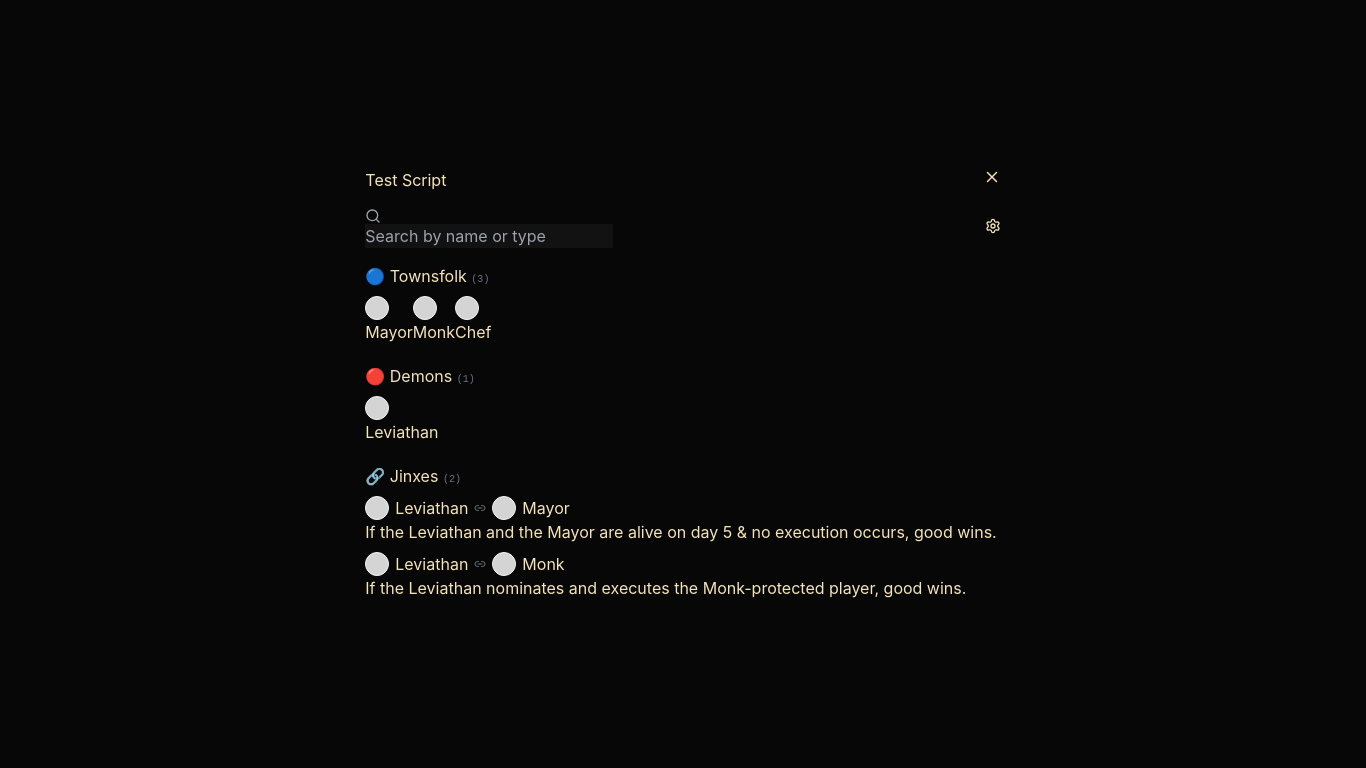
Test: ScriptCharactersModal jinxes › narrows jinxes to those naming a searched character
Type "monk" into the field with placeholder "Search by name or type" at coordinates (489, 236), box left=365, top=224, right=613, bottom=248
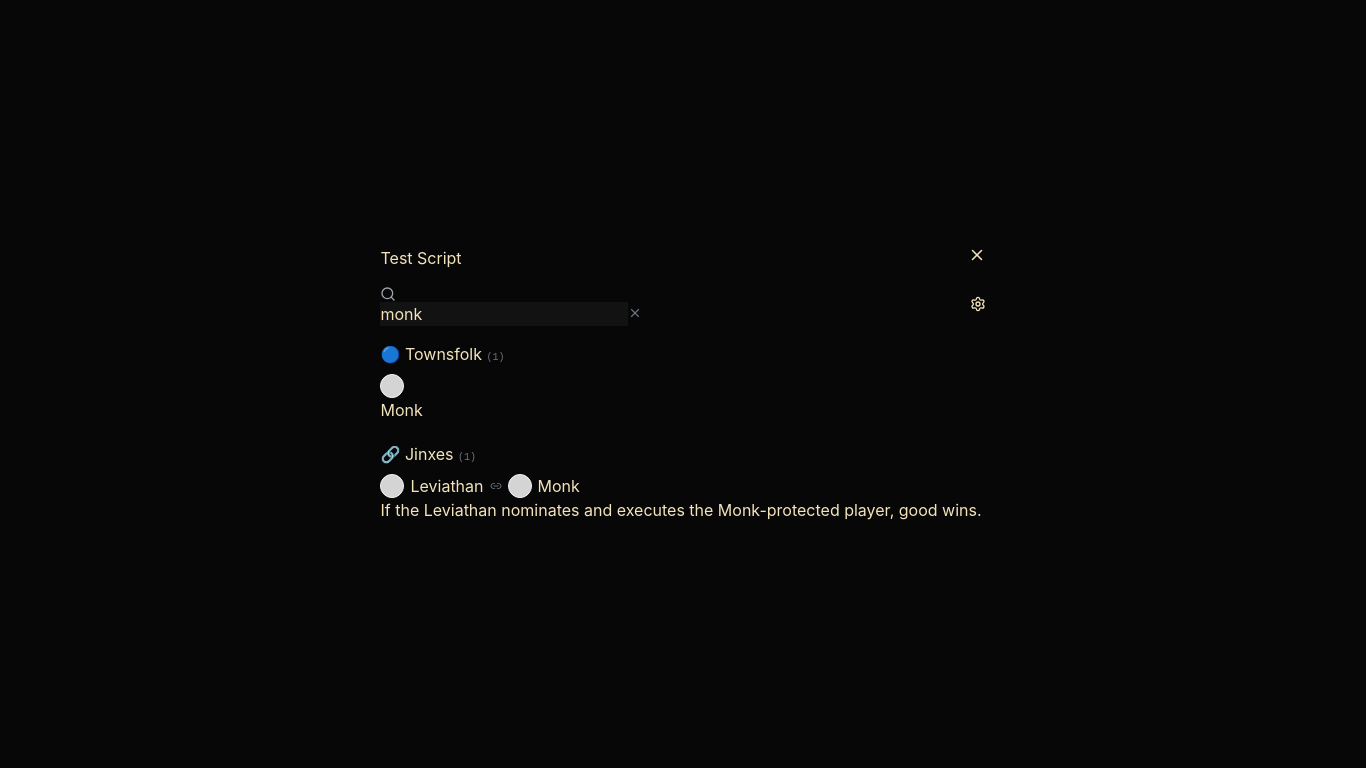
Check: the text "executes the Monk-protected player" is shown, box left=380, top=500, right=982, bottom=520
Check: the text "no execution occurs, good wins" is gone
